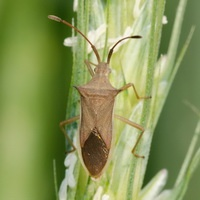insect: (48, 15, 150, 176)
